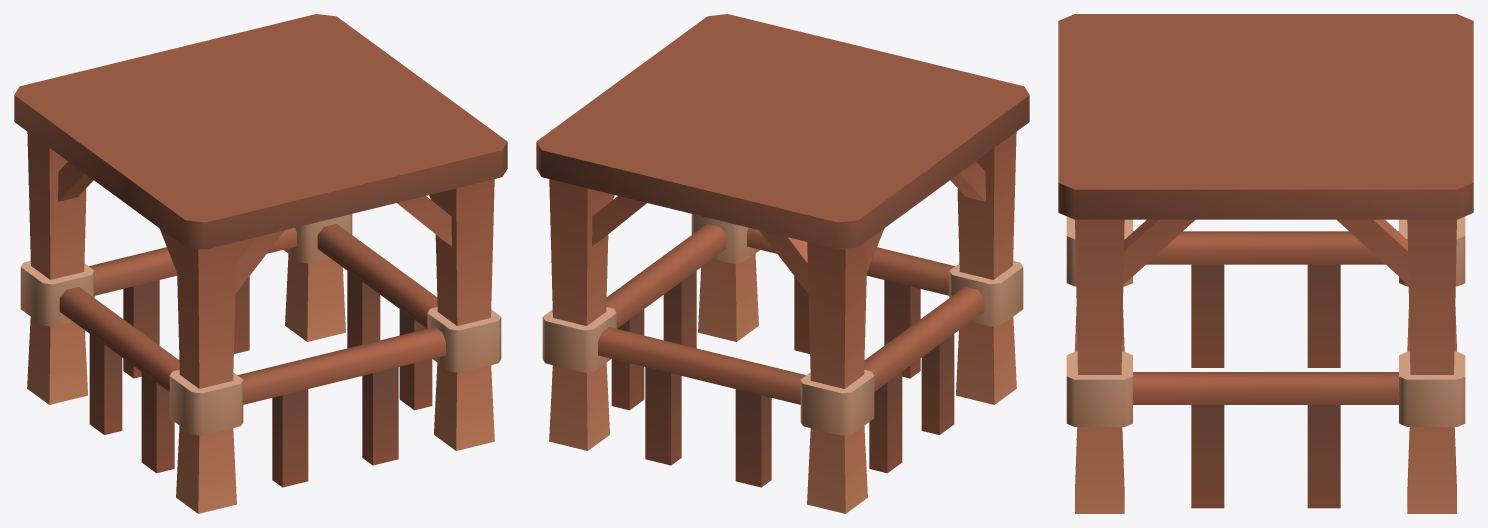
File: structure-fence-sides.glb
3 renders of one model, left to right at view 1: azimuth 30°, elevation 25°; view 2: azimuth 150°, elevation 25°; view 3: azimuth 270°, elevation 25°, orthographic. The views are drawn at different scales.
Visible parts, largest first — view 1: structure-fence-sides; view 2: structure-fence-sides; view 3: structure-fence-sides.
Part boxes in pixels (x1,y1,x2,y2): structure-fence-sides: [14, 14, 507, 513]; structure-fence-sides: [536, 14, 1029, 513]; structure-fence-sides: [1058, 14, 1473, 513].
Bounding box in the file's own units: 2.5 × 2.2 × 2.5.
Materials: 1 (1 with a texture image).
